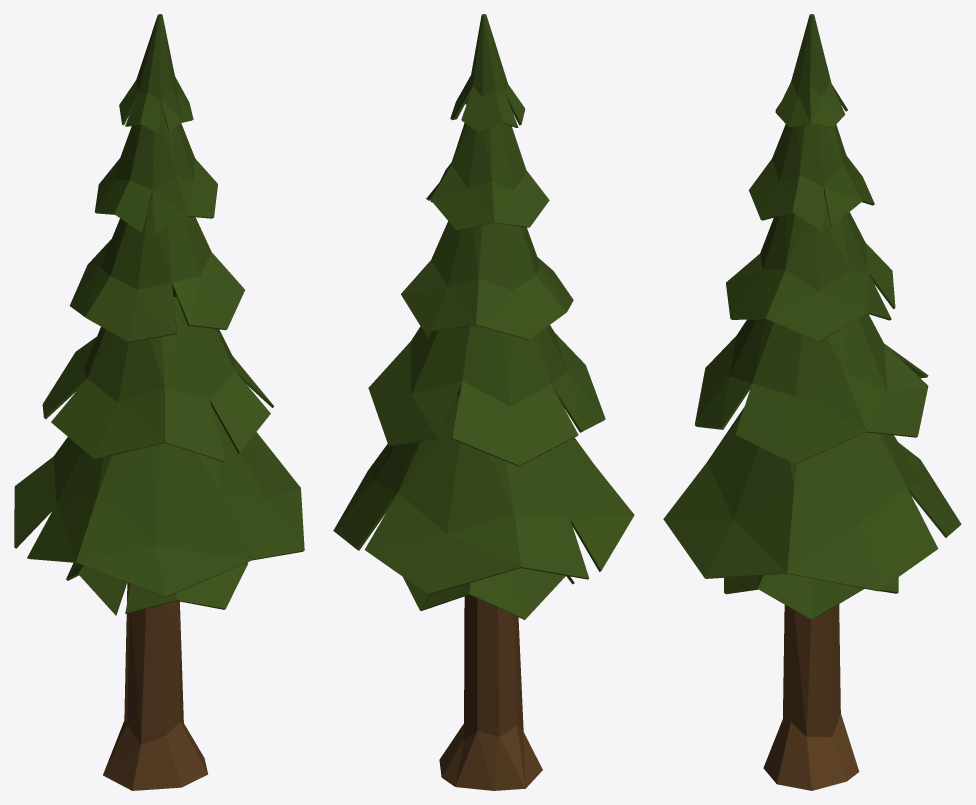
The model's file is Tree_Pine_A.fbx.
3 views of the same model, side by side, from view 1: azimuth 30°, elevation 25°; view 2: azimuth 150°, elevation 25°; view 3: azimuth 270°, elevation 25° (orthographic).
Parts seen in each view (by area): view 1: Tree_Pine_A; view 2: Tree_Pine_A; view 3: Tree_Pine_A.
Part boxes in pixels (left/top/right/bottom): Tree_Pine_A: left=14, top=14, right=304, bottom=790; Tree_Pine_A: left=333, top=14, right=634, bottom=790; Tree_Pine_A: left=663, top=14, right=961, bottom=790.
Bounding box in the file's own units: 548 × 1556 × 558.
